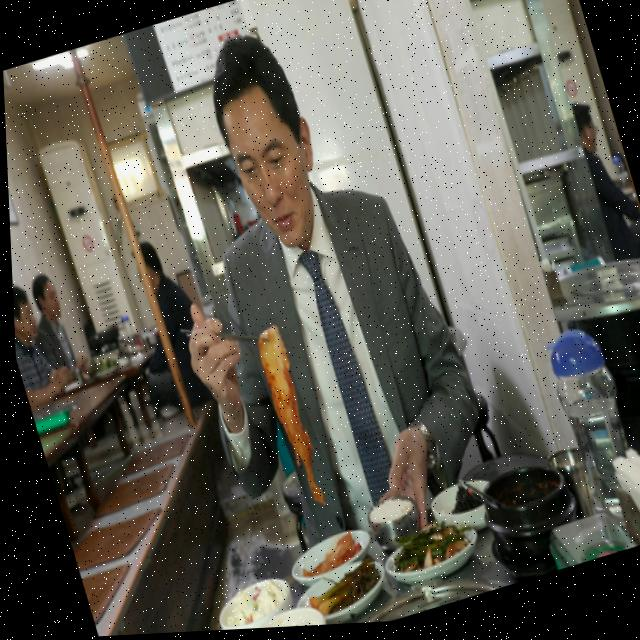eating-person: (89, 0, 529, 636)
